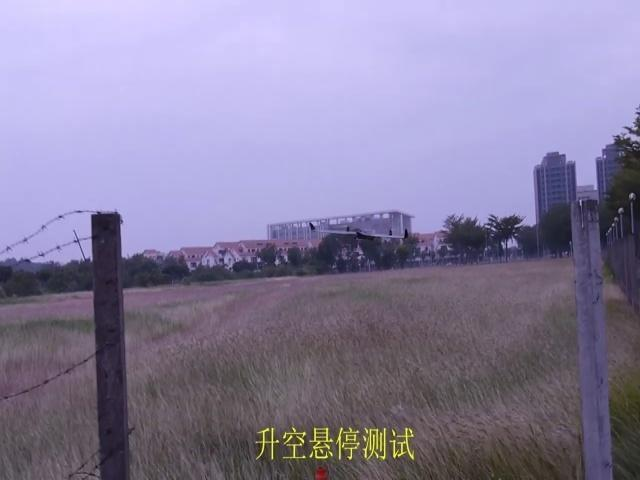Airplane: (309, 220, 409, 244)
